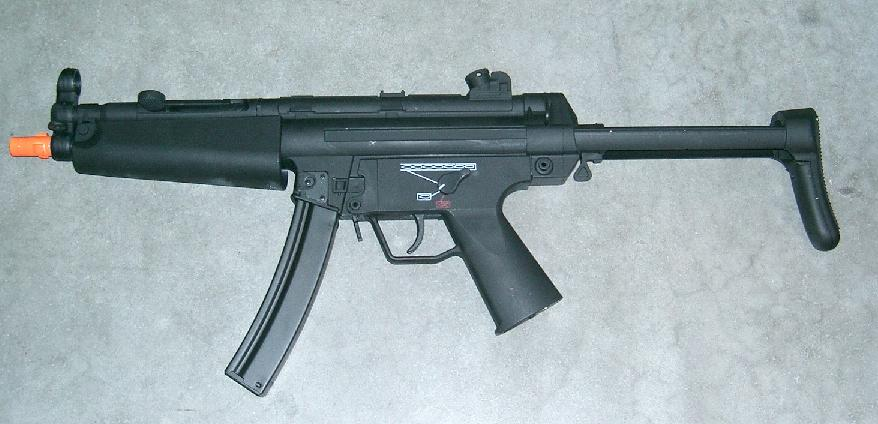rifle: (6, 45, 844, 388)
